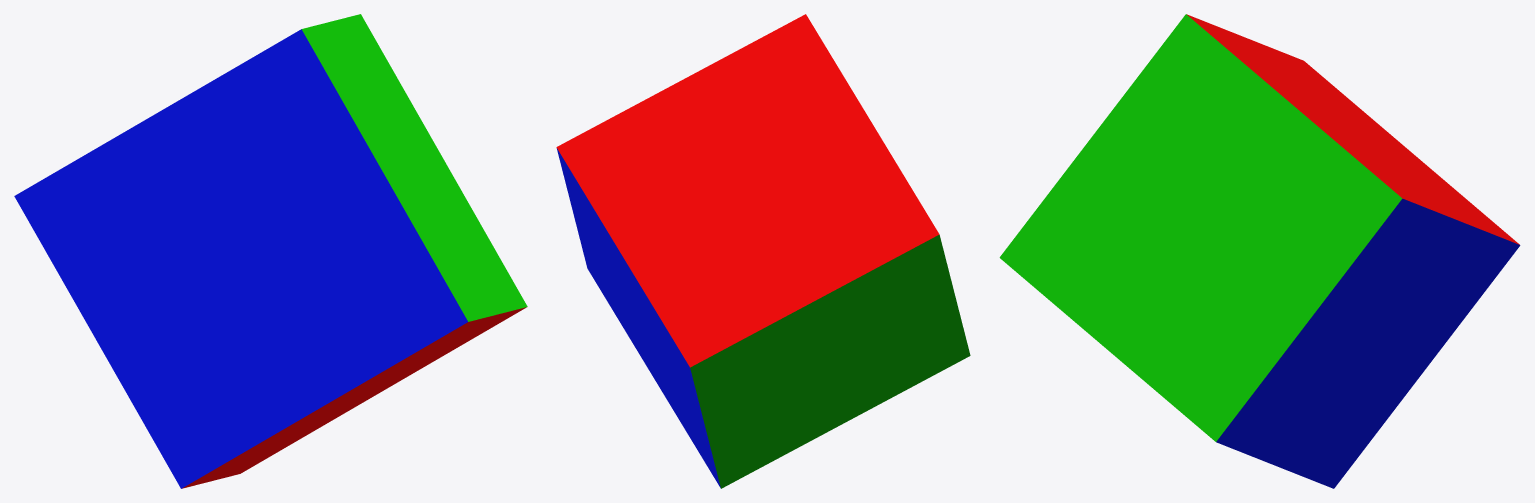
The model's file is ColourCube.fbx.
3 renders of one model, left to right at view 1: azimuth 30°, elevation 25°; view 2: azimuth 150°, elevation 25°; view 3: azimuth 270°, elevation 25°, orthographic. The views are drawn at different scales.
Parts seen in each view (by area): view 1: Cube; view 2: Cube; view 3: Cube.
Part boxes in pixels (x1,y1,x2,y2): Cube: (14,14,527,488); Cube: (556,14,970,488); Cube: (999,14,1520,488).
Bounding box in the file's own units: 319 × 333 × 337.
